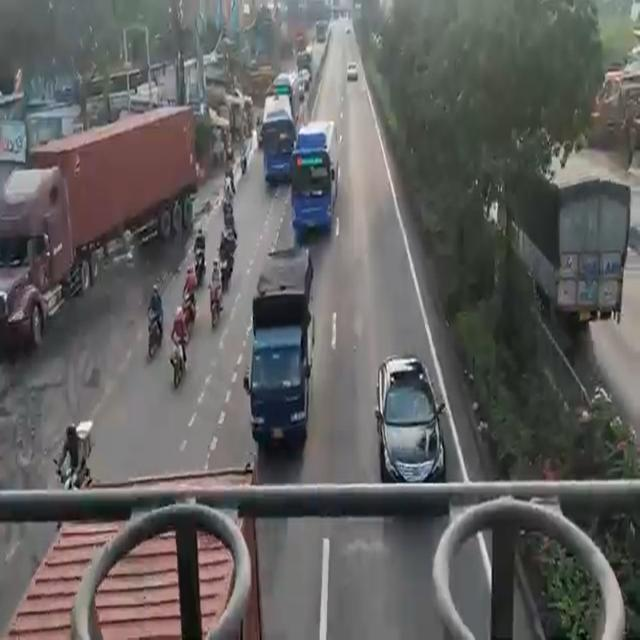bus: (296, 121, 336, 235), (259, 90, 294, 183)
motor: (49, 417, 96, 493), (168, 307, 189, 393), (207, 264, 227, 326), (145, 283, 160, 360), (176, 268, 195, 320), (191, 228, 204, 282)
truck: (0, 110, 194, 308), (506, 184, 636, 290), (251, 255, 310, 447)
